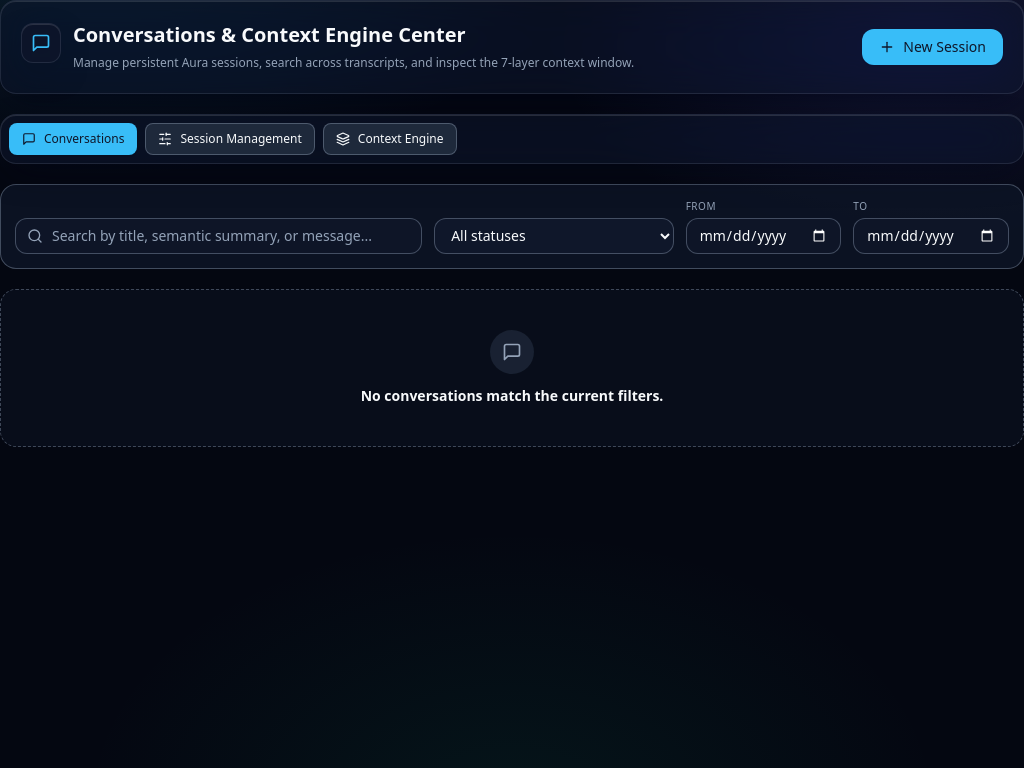
SessionsCenterPage › renders Management tab empty states when no sessions exist
Expected: the heading "No conversations match the current filters." is shown, [361,386,663,406]
Click the tab with test id "sessions-tab-management" at (230, 138), box [145,122,315,154]
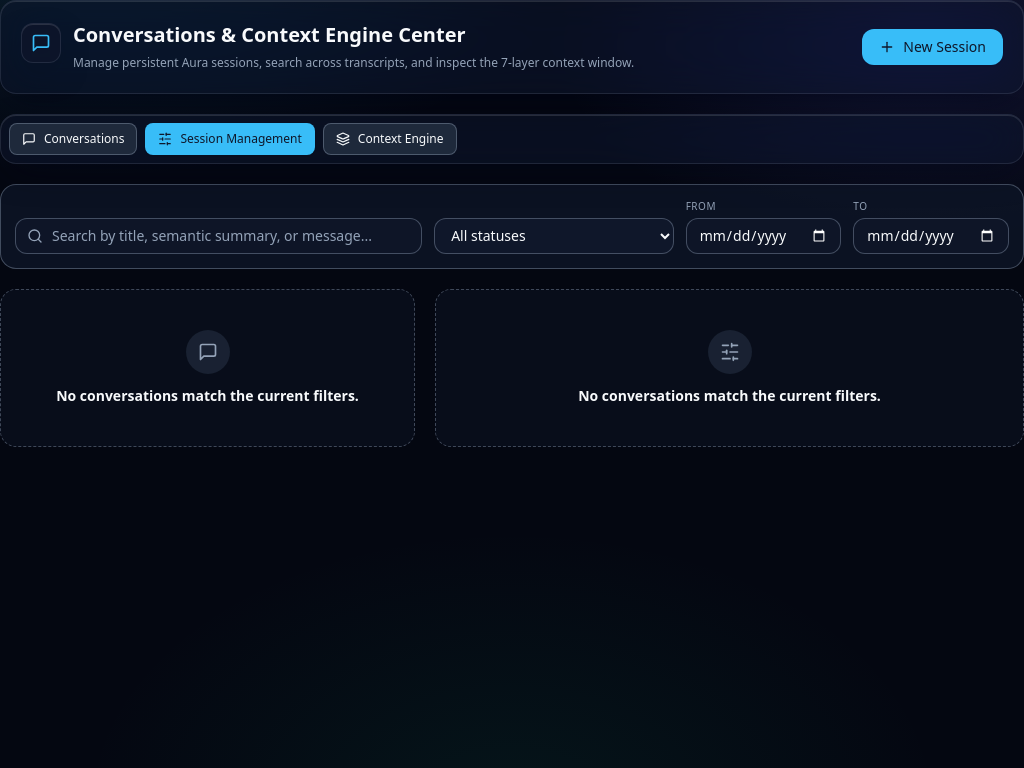
Expected: the number of headings "No conversations match the current filters." is 2, [56,386,359,406]; [578,386,881,406]
